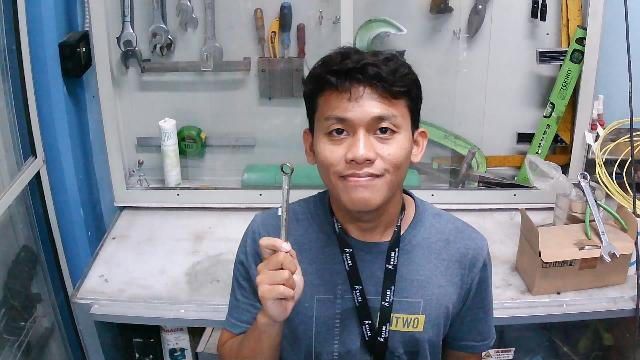kunci_pass_13: (256, 155, 303, 319)
